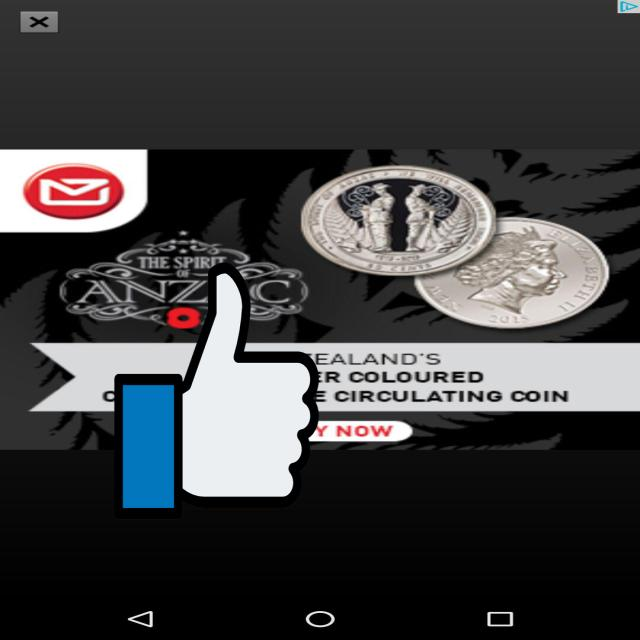privacy zuckering: (114, 256, 319, 524)
